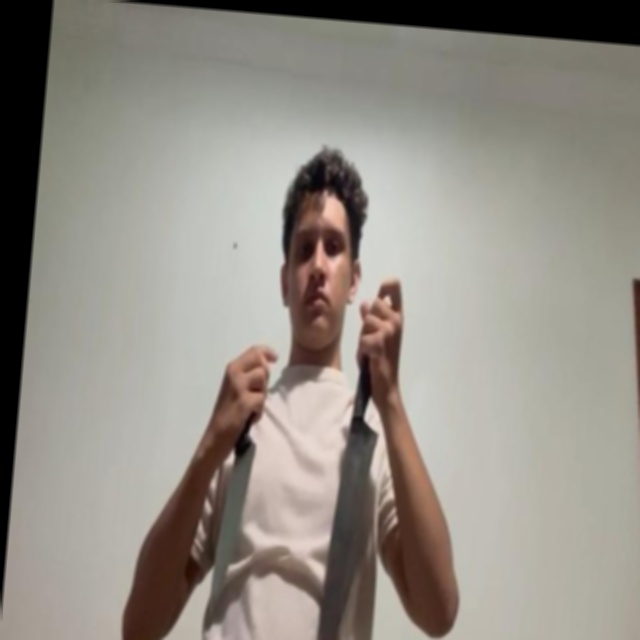Sharp-Object: (316, 417, 380, 640), (209, 435, 256, 603)
